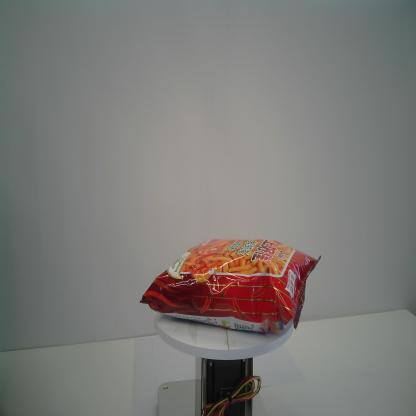Puffed Food: (140, 236, 322, 336)
